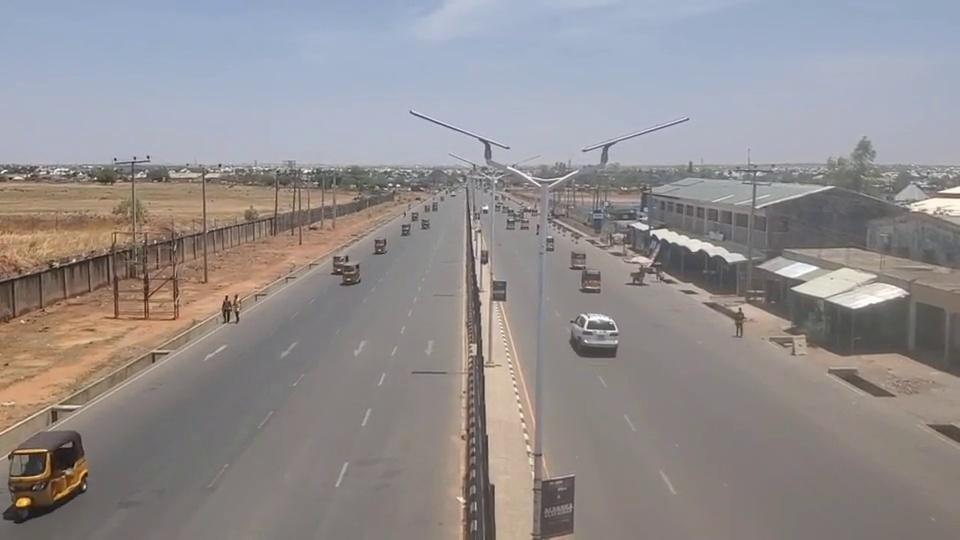car: (570, 310, 619, 354)
keke: (7, 429, 88, 511), (580, 267, 602, 292), (339, 262, 361, 285)
